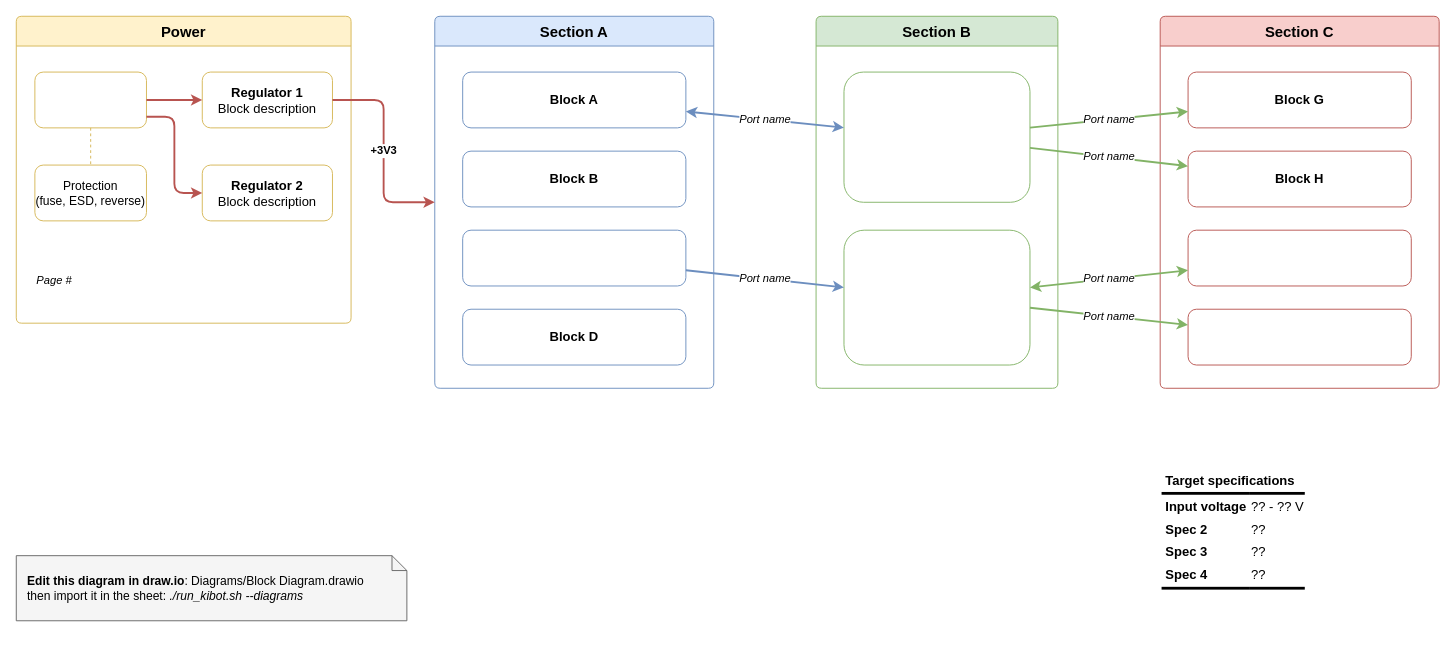
Some shapes in this 1455 by 646 pixel diagram are drawn without their labels. Here are the shapes that lost their labels. From the top down, the box of each, then its label:
(34, 71, 146, 128): Input +??V
(843, 71, 1030, 202): Block E
(462, 229, 686, 286): Block C
(1187, 229, 1411, 286): Block I
(843, 229, 1030, 365): Block F
(1187, 308, 1411, 365): Block J
